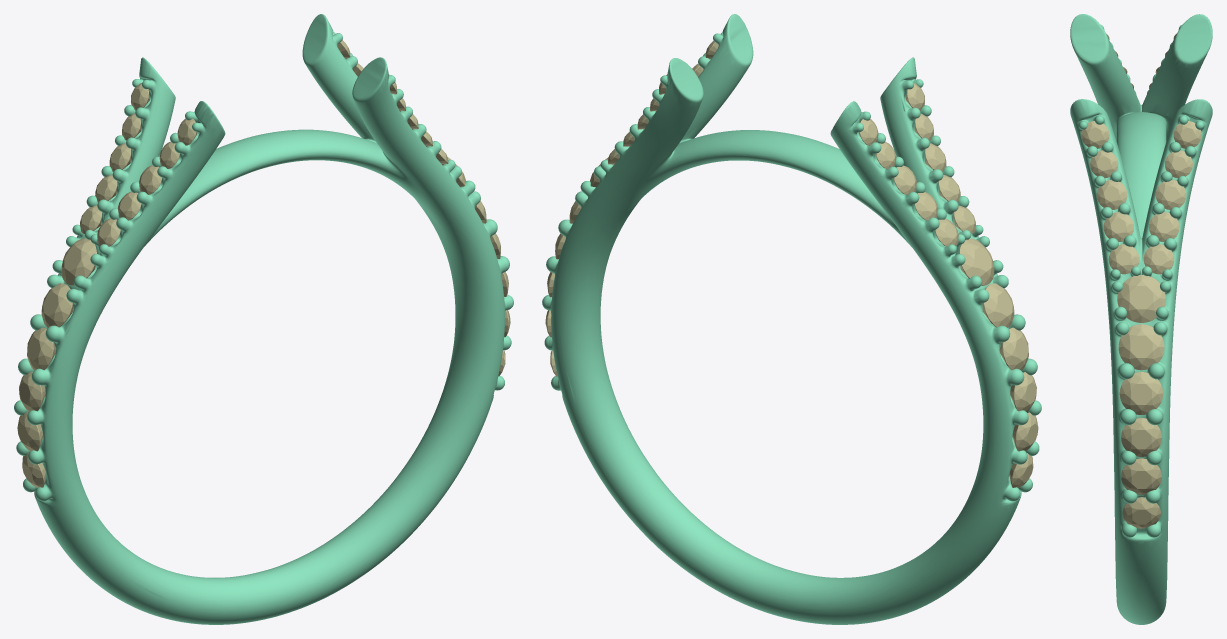
3 views of the same model, side by side, from view 1: azimuth 30°, elevation 25°; view 2: azimuth 150°, elevation 25°; view 3: azimuth 270°, elevation 25° (orthographic). The views are drawn at different scales.
Visible parts, largest first — view 1: Metal02, Diamond_Gem, Diamond_Gem.005, Diamond_Gem.004, Diamond_Gem.003, Diamond_Gem.002; view 2: Metal02, Diamond_Gem, Diamond_Gem.005, Diamond_Gem.004, Diamond_Gem.003, Diamond_Gem.002; view 3: Metal02, Diamond_Gem.031, Diamond_Gem.022, Diamond_Gem.023, Diamond_Gem.024, Diamond_Gem.025, Diamond_Gem.026, Diamond_Gem.029, Diamond_Gem.021, Diamond_Gem.030, Diamond_Gem.028, Diamond_Gem.019 (+5 smaller).
Boxes of the visible parts, <box> form: Metal02: <box>14,14,513,624</box>; Diamond_Gem: <box>61,238,96,285</box>; Diamond_Gem.005: <box>41,283,73,327</box>; Diamond_Gem.004: <box>27,327,56,370</box>; Diamond_Gem.003: <box>19,371,45,411</box>; Diamond_Gem.002: <box>17,412,43,451</box>; Metal02: <box>542,14,1041,624</box>; Diamond_Gem: <box>959,238,994,285</box>; Diamond_Gem.005: <box>982,283,1014,327</box>; Diamond_Gem.004: <box>999,327,1028,370</box>; Diamond_Gem.003: <box>1010,372,1036,411</box>; Diamond_Gem.002: <box>1012,412,1038,451</box>; Metal02: <box>1070,14,1212,624</box>; Diamond_Gem.031: <box>1117,275,1165,322</box>; Diamond_Gem.022: <box>1118,324,1164,370</box>; Diamond_Gem.023: <box>1119,372,1163,414</box>; Diamond_Gem.024: <box>1121,417,1161,456</box>; Diamond_Gem.025: <box>1121,458,1161,494</box>; Diamond_Gem.026: <box>1122,497,1160,528</box>; Diamond_Gem.029: <box>1096,180,1127,209</box>; Diamond_Gem.021: <box>1143,244,1174,274</box>; Diamond_Gem.030: <box>1108,244,1139,274</box>; Diamond_Gem.028: <box>1155,180,1186,209</box>; Diamond_Gem.019: <box>1149,212,1179,241</box>.
Bounding box in the file's own units: 21.35 × 23.49 × 5.58.
